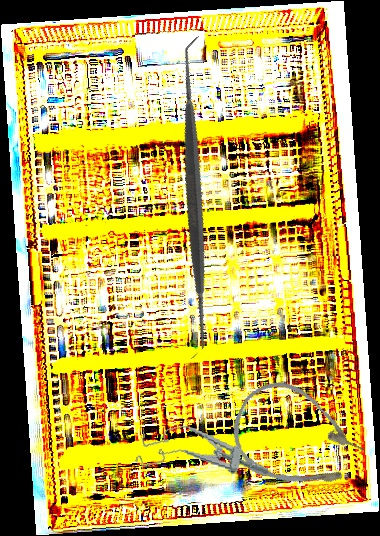Cannula: (218, 368, 377, 511)
Spatula Surgical: (33, 35, 357, 360)
Speculum: (134, 418, 273, 487)
